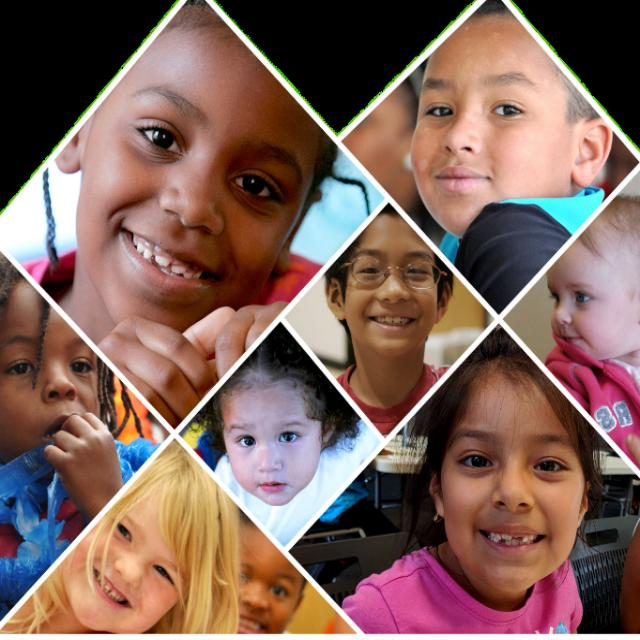child: (38, 0, 351, 423), (346, 351, 600, 640), (406, 0, 625, 297), (0, 263, 155, 579), (8, 438, 238, 640), (543, 187, 640, 468), (328, 205, 452, 414), (216, 330, 344, 526), (232, 526, 308, 636)
